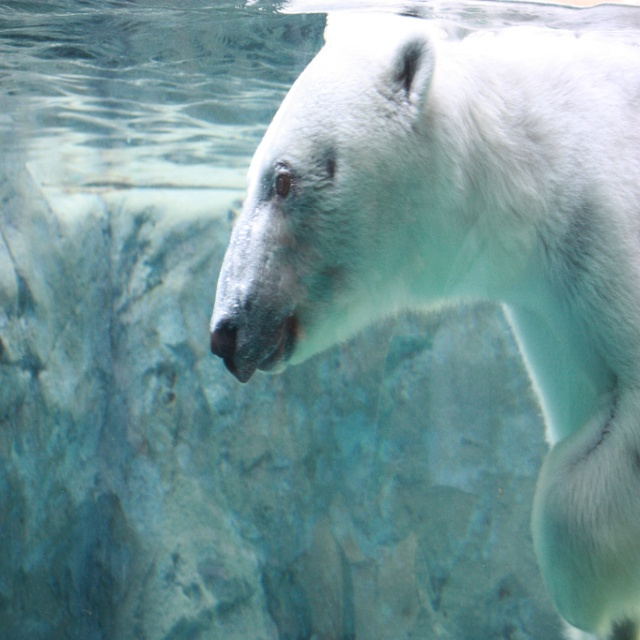Polar bear: (210, 13, 640, 639)
